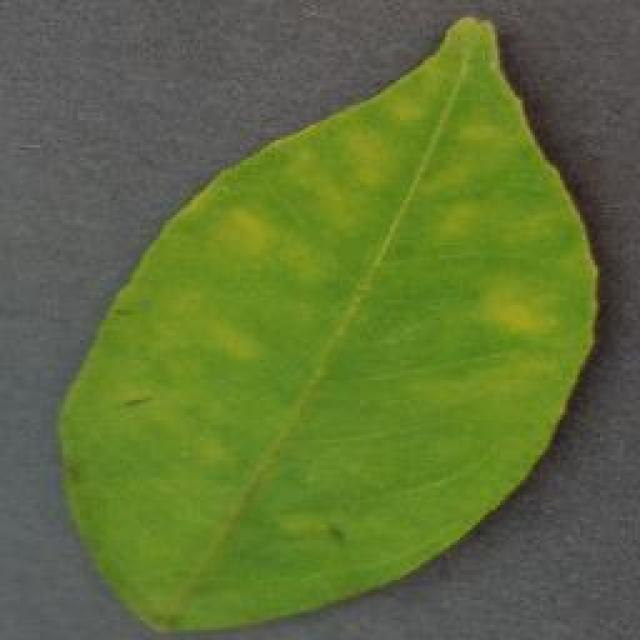Orange_Haunglongbing_Citrus_greening: (128, 161, 568, 604)
